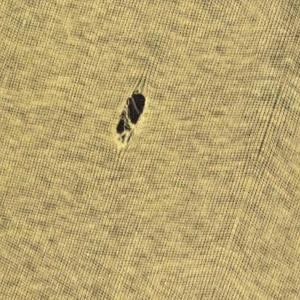hole: (113, 86, 152, 145)
